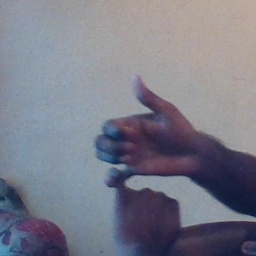S: (88, 70, 204, 232)
